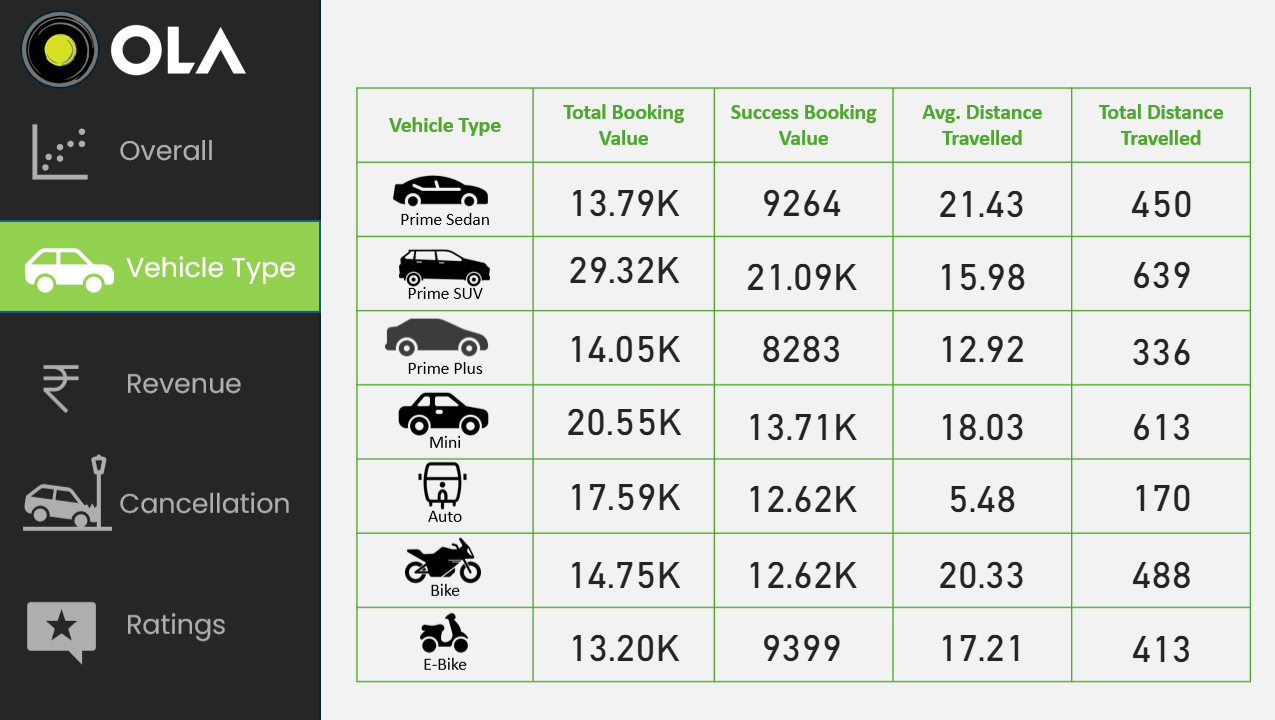

Layout of this report page (visuals, bound fields, positions):
{"tool":"powerbi","page":{"name":"Vehicle Type","canvas":[1280,720],"ordinal":1},"visuals":[{"type":"actionButton","box":[0,107.4,320.9,94.1],"z":0},{"type":"actionButton","box":[0,219.6,320.9,94.1],"z":1000},{"type":"actionButton","box":[0,339,320.9,94.1],"z":2000},{"type":"actionButton","box":[0,446.4,320.9,94.1],"z":3000},{"type":"actionButton","box":[0,582.7,320.9,94.1],"z":4000},{"type":"card","fields":{"Values":["Sum(Bookings.Booking_Value)"]},"box":[542.5,167.5,167.5,63.8],"z":5000},{"type":"card","fields":{"Values":["Sum(Bookings.Booking_Value)"]},"box":[542.5,235,167.5,63.8],"z":6000},{"type":"card","fields":{"Values":["Sum(Bookings.Booking_Value)"]},"box":[542.5,313.8,167.5,63.8],"z":7000},{"type":"card","fields":{"Values":["Sum(Bookings.Booking_Value)"]},"box":[542.5,612.5,167.5,63.8],"z":8000},{"type":"card","fields":{"Values":["Sum(Bookings.Booking_Value)"]},"box":[542.5,540,167.5,63.8],"z":9000},{"type":"card","fields":{"Values":["Sum(Bookings.Booking_Value)"]},"box":[542.5,461.2,167.5,63.8],"z":10000},{"type":"card","fields":{"Values":["Sum(Bookings.Booking_Value)"]},"box":[542.5,386.2,167.5,63.8],"z":11000},{"type":"card","fields":{"Values":["Sum(Bookings.Booking_Value)"]},"box":[720,612.5,167.5,63.8],"z":12000},{"type":"card","fields":{"Values":["Sum(Bookings.Booking_Value)"]},"box":[720,540,167.5,63.8],"z":13000},{"type":"card","fields":{"Values":["Sum(Bookings.Booking_Value)"]},"box":[720,463.8,167.5,63.8],"z":14000},{"type":"card","fields":{"Values":["Sum(Bookings.Booking_Value)"]},"box":[720,391.2,167.5,63.8],"z":15000},{"type":"card","fields":{"Values":["Sum(Bookings.Booking_Value)"]},"box":[720,313.8,167.5,63.8],"z":16000},{"type":"card","fields":{"Values":["Sum(Bookings.Booking_Value)"]},"box":[720,241.2,167.5,63.8],"z":17000},{"type":"card","fields":{"Values":["Sum(Bookings.Booking_Value)"]},"box":[720,167.5,167.5,63.8],"z":18000},{"type":"card","fields":{"Values":["Avg(Bookings.Ride_Distance)"]},"box":[900,612.5,167.5,63.8],"z":19000},{"type":"card","fields":{"Values":["Avg(Bookings.Ride_Distance)"]},"box":[900,540,167.5,63.8],"z":20000},{"type":"card","fields":{"Values":["Avg(Bookings.Ride_Distance)"]},"box":[900,463.8,167.5,63.8],"z":21000},{"type":"card","fields":{"Values":["Avg(Bookings.Ride_Distance)"]},"box":[900,391.2,167.5,63.8],"z":22000},{"type":"card","fields":{"Values":["Avg(Bookings.Ride_Distance)"]},"box":[900,313.8,167.5,63.8],"z":23000},{"type":"card","fields":{"Values":["Avg(Bookings.Ride_Distance)"]},"box":[900,241.2,167.5,63.8],"z":24000},{"type":"card","fields":{"Values":["Avg(Bookings.Ride_Distance)"]},"box":[900,168.8,167.5,63.8],"z":25000},{"type":"card","fields":{"Values":["Sum(Bookings.Ride_Distance)"]},"box":[1080,613.8,167.5,63.8],"z":26000},{"type":"card","fields":{"Values":["Sum(Bookings.Ride_Distance)"]},"box":[1080,540,167.5,63.8],"z":27000},{"type":"card","fields":{"Values":["Sum(Bookings.Ride_Distance)"]},"box":[1080,462.5,167.5,63.8],"z":28000},{"type":"card","fields":{"Values":["Sum(Bookings.Ride_Distance)"]},"box":[1080,391.2,167.5,63.8],"z":29000},{"type":"card","fields":{"Values":["Sum(Bookings.Ride_Distance)"]},"box":[1080,316.2,167.5,63.8],"z":30000},{"type":"card","fields":{"Values":["Sum(Bookings.Ride_Distance)"]},"box":[1080,240,167.5,63.8],"z":31000},{"type":"card","fields":{"Values":["Sum(Bookings.Ride_Distance)"]},"box":[1080,168.8,167.5,63.8],"z":32000}]}

Visuals, with their boxes on the page's 1280x720 design canvas (x1, y1, x2, y2). These are canvas units, not pixel positions in the 1275x720 screenshot, which may show the page scaled, cropped or inside an application window:
actionButton: (left=0, top=107, right=321, bottom=202)
actionButton: (left=0, top=220, right=321, bottom=314)
actionButton: (left=0, top=339, right=321, bottom=433)
actionButton: (left=0, top=446, right=321, bottom=540)
actionButton: (left=0, top=583, right=321, bottom=677)
card - Sum(Bookings.Booking_Value): (left=542, top=168, right=710, bottom=231)
card - Sum(Bookings.Booking_Value): (left=542, top=235, right=710, bottom=299)
card - Sum(Bookings.Booking_Value): (left=542, top=314, right=710, bottom=378)
card - Sum(Bookings.Booking_Value): (left=542, top=612, right=710, bottom=676)
card - Sum(Bookings.Booking_Value): (left=542, top=540, right=710, bottom=604)
card - Sum(Bookings.Booking_Value): (left=542, top=461, right=710, bottom=525)
card - Sum(Bookings.Booking_Value): (left=542, top=386, right=710, bottom=450)
card - Sum(Bookings.Booking_Value): (left=720, top=612, right=888, bottom=676)
card - Sum(Bookings.Booking_Value): (left=720, top=540, right=888, bottom=604)
card - Sum(Bookings.Booking_Value): (left=720, top=464, right=888, bottom=528)
card - Sum(Bookings.Booking_Value): (left=720, top=391, right=888, bottom=455)
card - Sum(Bookings.Booking_Value): (left=720, top=314, right=888, bottom=378)
card - Sum(Bookings.Booking_Value): (left=720, top=241, right=888, bottom=305)
card - Sum(Bookings.Booking_Value): (left=720, top=168, right=888, bottom=231)
card - Avg(Bookings.Ride_Distance): (left=900, top=612, right=1068, bottom=676)
card - Avg(Bookings.Ride_Distance): (left=900, top=540, right=1068, bottom=604)
card - Avg(Bookings.Ride_Distance): (left=900, top=464, right=1068, bottom=528)
card - Avg(Bookings.Ride_Distance): (left=900, top=391, right=1068, bottom=455)
card - Avg(Bookings.Ride_Distance): (left=900, top=314, right=1068, bottom=378)
card - Avg(Bookings.Ride_Distance): (left=900, top=241, right=1068, bottom=305)
card - Avg(Bookings.Ride_Distance): (left=900, top=169, right=1068, bottom=233)
card - Sum(Bookings.Ride_Distance): (left=1080, top=614, right=1248, bottom=678)
card - Sum(Bookings.Ride_Distance): (left=1080, top=540, right=1248, bottom=604)
card - Sum(Bookings.Ride_Distance): (left=1080, top=462, right=1248, bottom=526)
card - Sum(Bookings.Ride_Distance): (left=1080, top=391, right=1248, bottom=455)
card - Sum(Bookings.Ride_Distance): (left=1080, top=316, right=1248, bottom=380)
card - Sum(Bookings.Ride_Distance): (left=1080, top=240, right=1248, bottom=304)
card - Sum(Bookings.Ride_Distance): (left=1080, top=169, right=1248, bottom=233)
